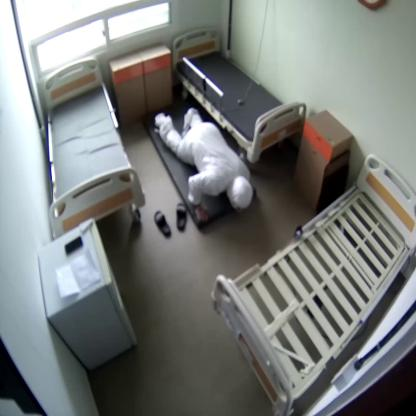Bed: (213, 150, 415, 412), (45, 58, 145, 236)
Person: (155, 109, 252, 224)
